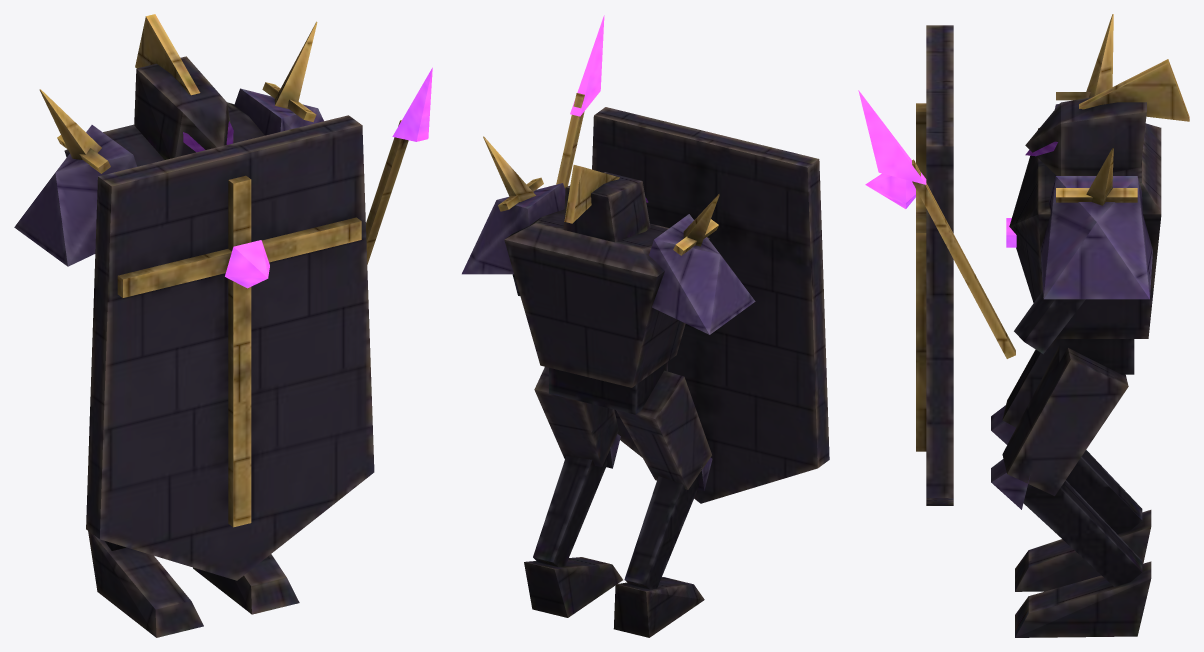
Rendered from e_shield.glb.
The picture shows the model from 3 angles, left to right: view 1: azimuth 30°, elevation 25°; view 2: azimuth 150°, elevation 25°; view 3: azimuth 270°, elevation 25°; orthographic projection. The views are drawn at different scales.
Parts seen in each view (by area): view 1: e_shield; view 2: e_shield; view 3: e_shield.
Part boxes in pixels (box(x1,y1,x2,y2)): e_shield: box(14, 14, 432, 637); e_shield: box(462, 15, 829, 637); e_shield: box(858, 14, 1189, 637).
Size of the model in its own units: 1.15 by 2.01 by 1.05.
Materials: 1 (1 with a texture image).
